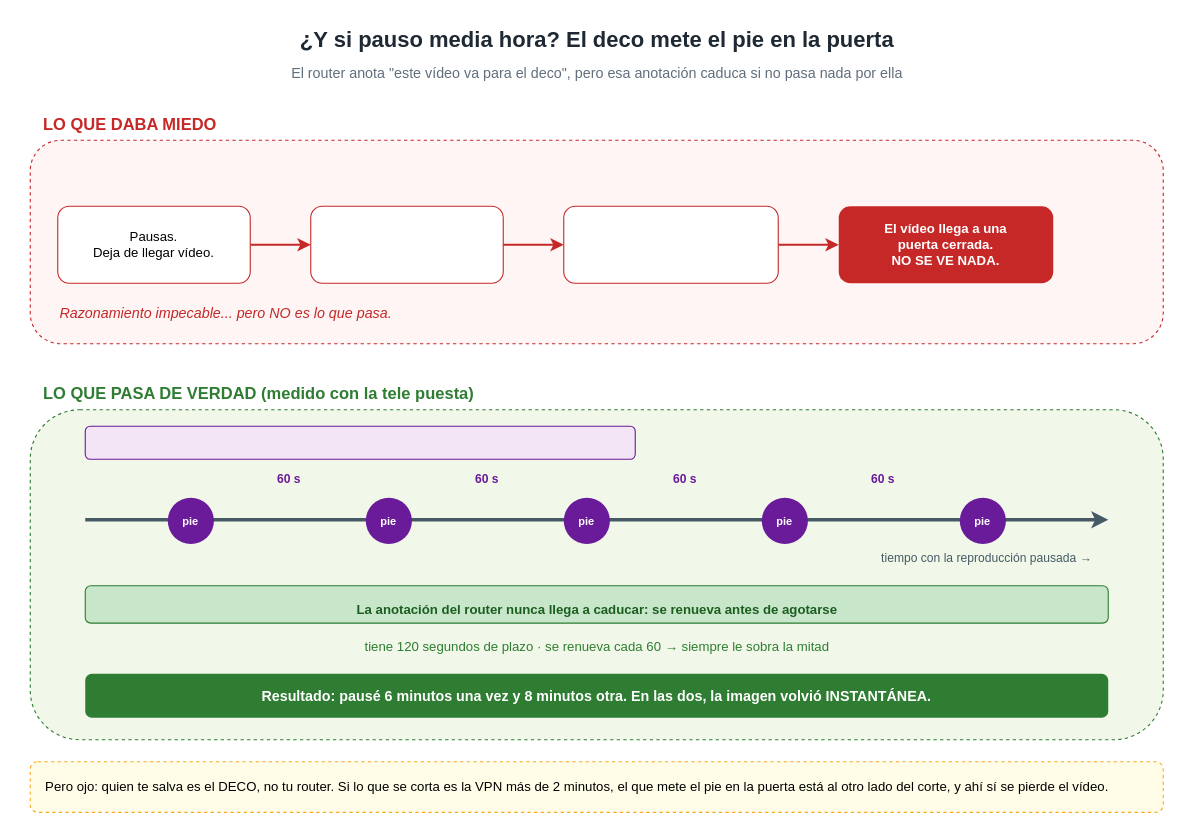
This 1192x832 diagram has some shape labels left out. Here are the shapes that lost their labels. From the top down, the centre of each, then its label:
(x=406, y=244): A los 30 segundos la anotación CADUCA.
(x=670, y=244): Das al play. El deco NO vuelve a pedir permiso, solo dice "sigue".
(x=359, y=442): Cada 60 segundos el deco manda un paquetito de 3 bytes al servidor.
